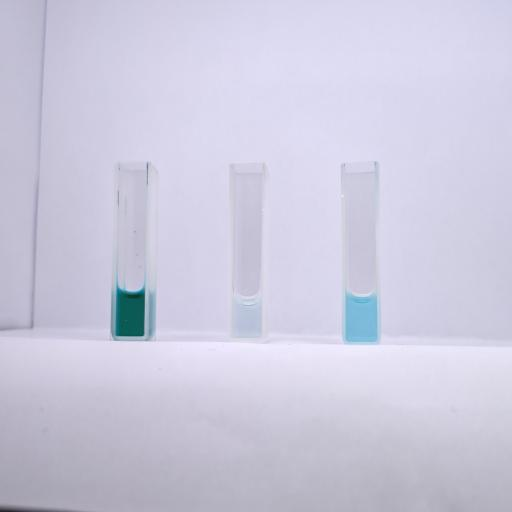cuvette: (108, 160, 152, 342), (339, 160, 382, 346), (228, 162, 268, 344)
liquid: (346, 293, 377, 342), (116, 289, 144, 337), (233, 294, 261, 338)
